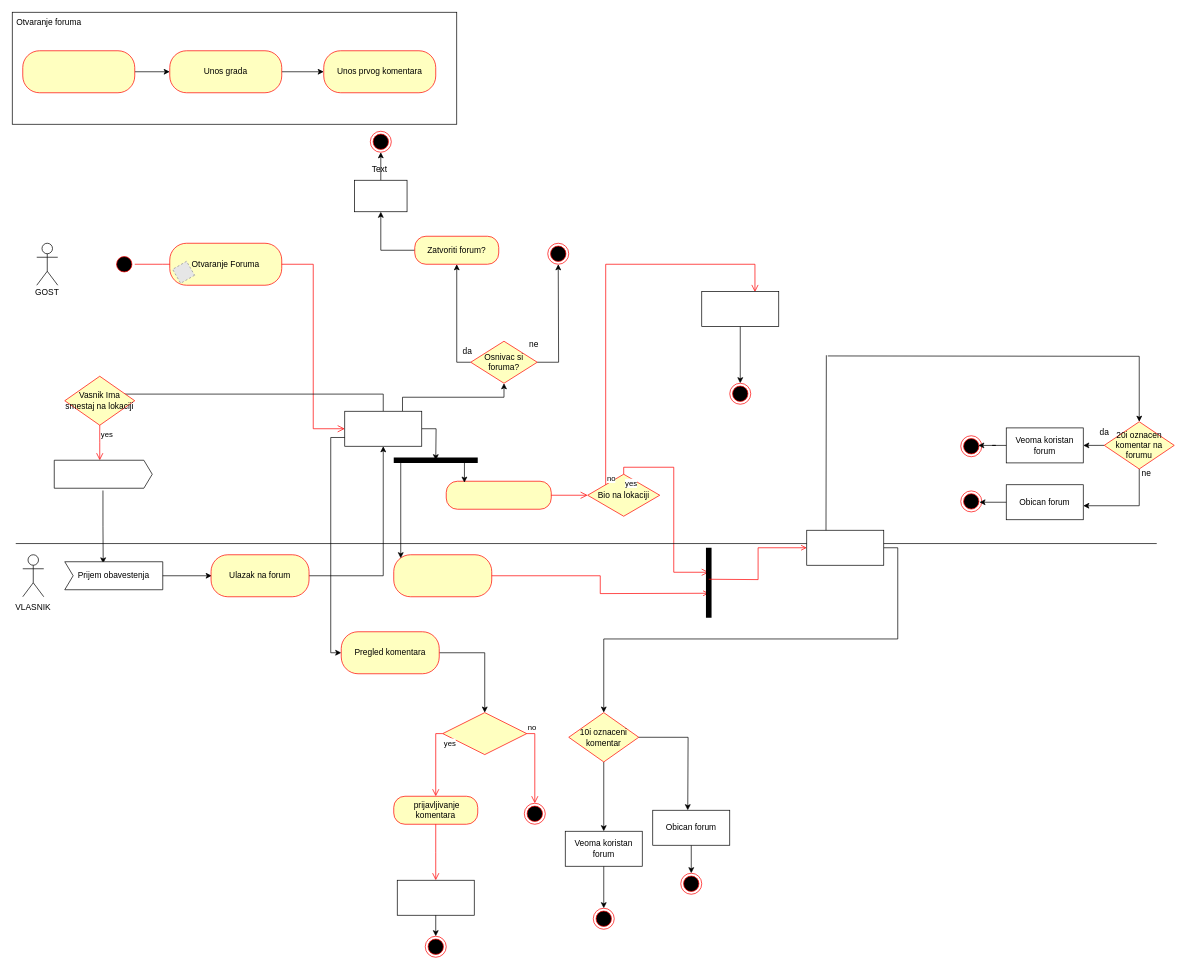
This 1187x970 diagram has some shape labels left out. Grey dashed boxes stand in for pictures. The shapes that lost their labels are listed below. From the top down, each one's centre as x and y in pixels, then its label:
At [78,71]: "Unos Drzave".
At [380,196]: "Zatvoren forum".
At [740,308]: "Neoznacen komentar".
At [383,428]: "Novi otvoren Forum".
At [103,474]: "Slanje obavestenja".
At [498,495]: "Ostavljanje komentara".
At [845,547]: "Oznacen komentar".
At [442,575]: "Ostavljanje oznacenog komentara na forumu".
At [484,733]: "Prijaviti komentar?".
At [435,897]: "Komentar sa prijavom više".
